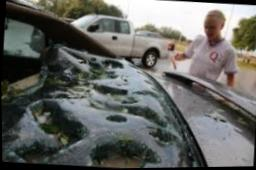Windshield: (1, 4, 205, 169)
